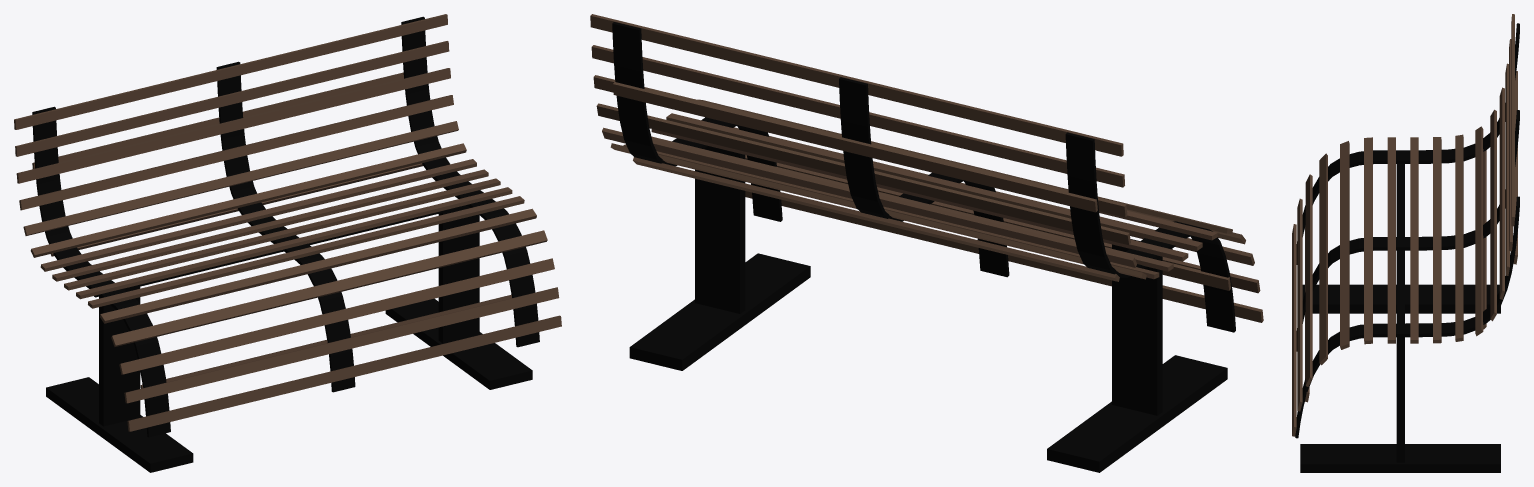
The model's file is P_BENCH 01.fbx.
3 renders of one model, left to right at view 1: azimuth 30°, elevation 25°; view 2: azimuth 150°, elevation 25°; view 3: azimuth 270°, elevation 25°, orthographic. The views are drawn at different scales.
Parts seen in each view (by area): view 1: Bench_01; view 2: Bench_01; view 3: Bench_01.
Boxes of the visible parts, x1=… form: Bench_01: x1=14, y1=14, x2=561, y2=472; Bench_01: x1=590, y1=14, x2=1263, y2=472; Bench_01: x1=1292, y1=14, x2=1519, y2=472.
Bounding box in the file's own units: 159 × 98.1 × 75.5.
